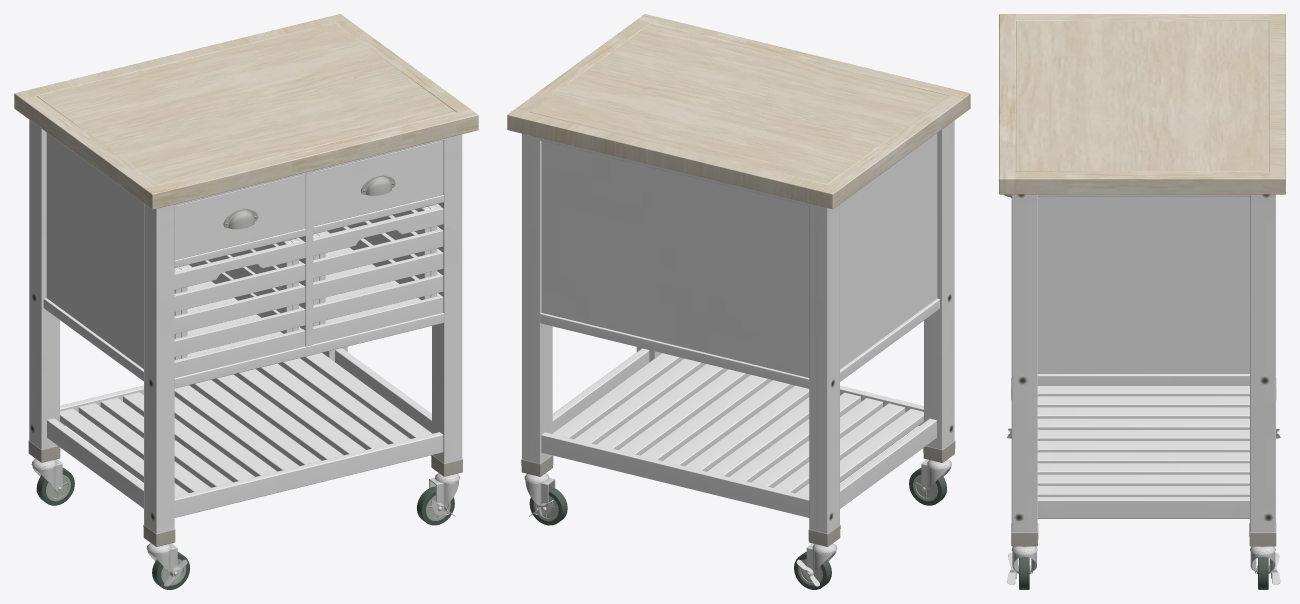
Rendered from abo-B07M7NSYD3.glb.
3 views of the same model, side by side, from view 1: azimuth 30°, elevation 25°; view 2: azimuth 150°, elevation 25°; view 3: azimuth 270°, elevation 25° (orthographic). The views are drawn at different scales.
Bounding box in the file's own units: 0.762 × 0.914 × 0.559.
1 material, 1 textured.
